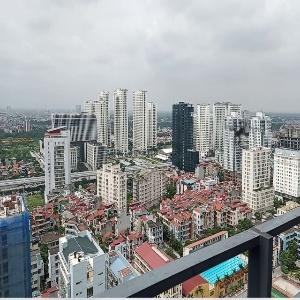drone: (204, 99, 273, 168)
